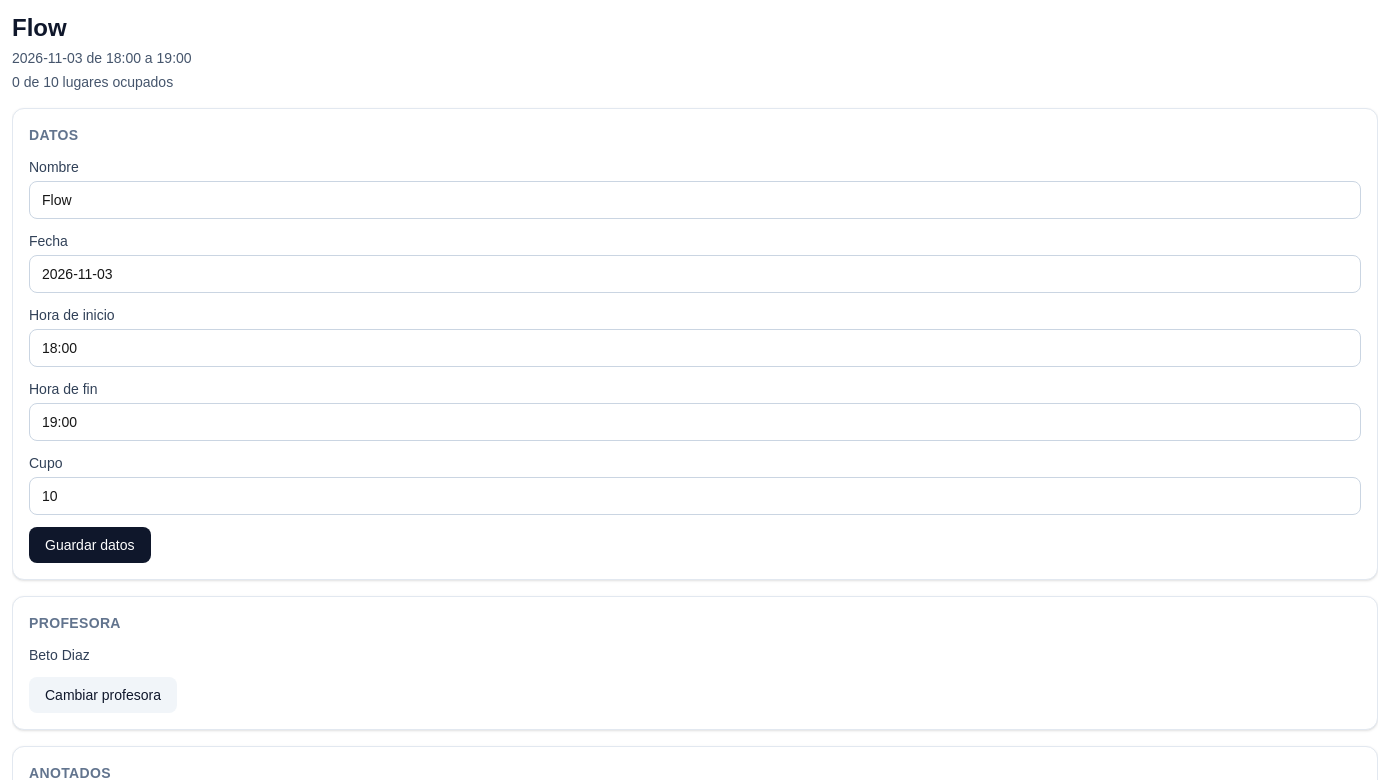
el bloque de la profesora › el selector arranca en la profesora que ya esta puesta, por su perfilId
Click the button "Cambiar profesora" at [103, 695], box [29,677,177,713]
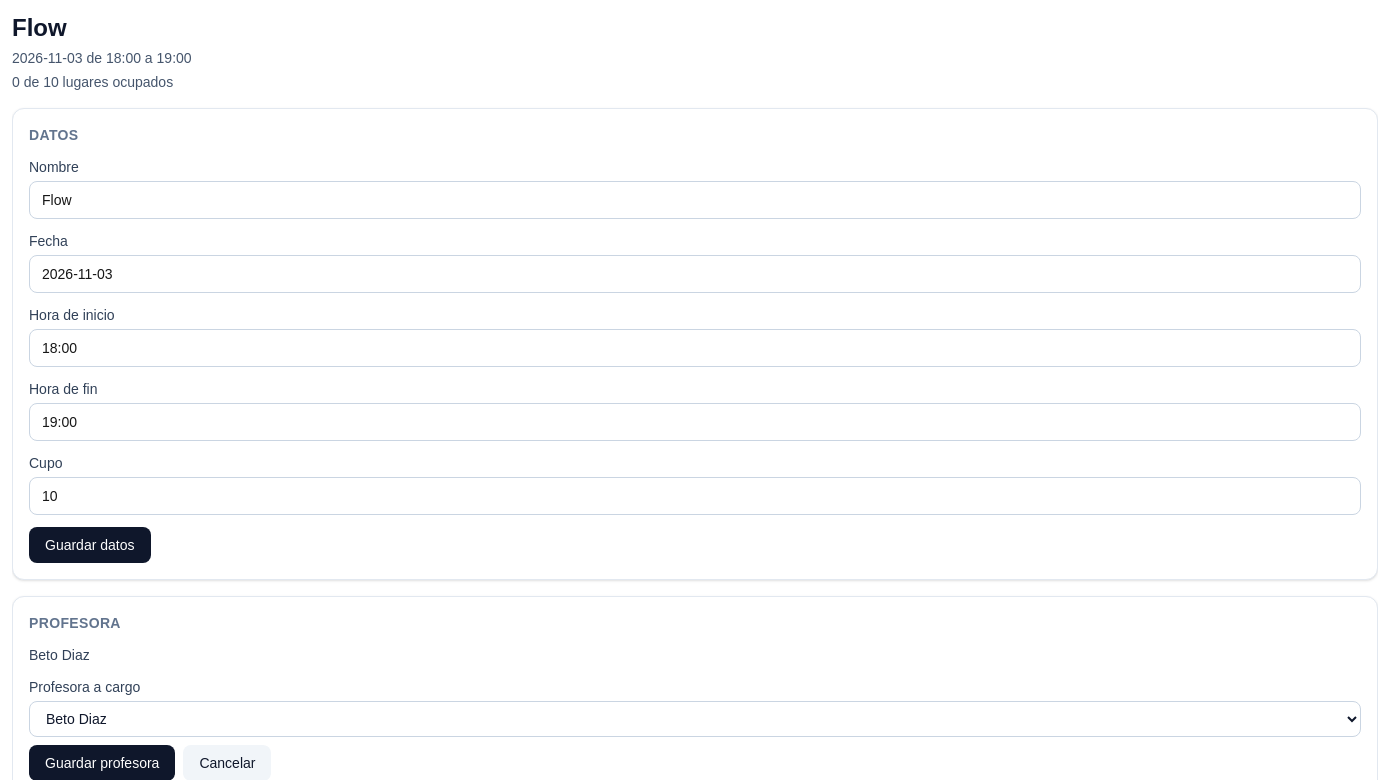
Expected: the dropdown labelled "Profesora a cargo" shows "Beto Diaz", [29,701,1361,737]
